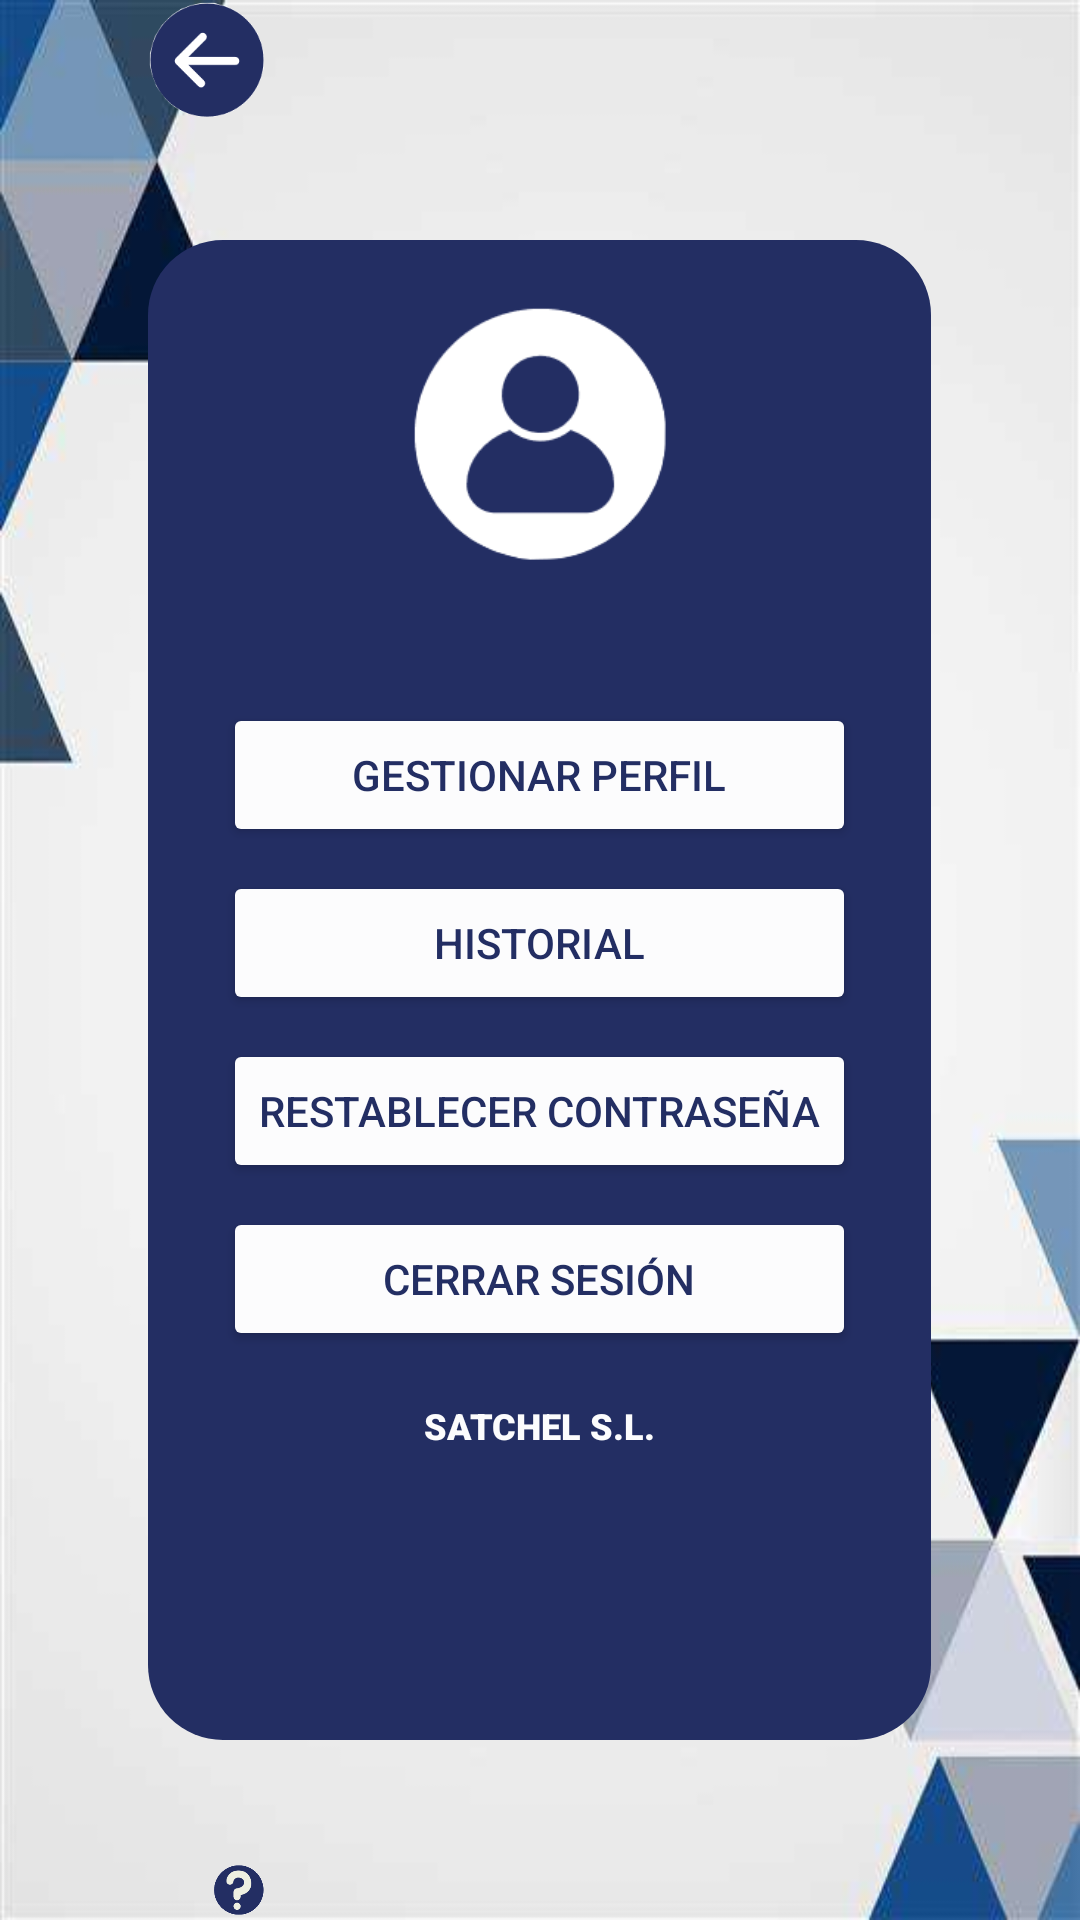

Icon click points for this 1080px x 1920px phone screenshot, format [x,y]:
goback: [207,60]
help: [239,1890]
profilewhite: [540,434]
